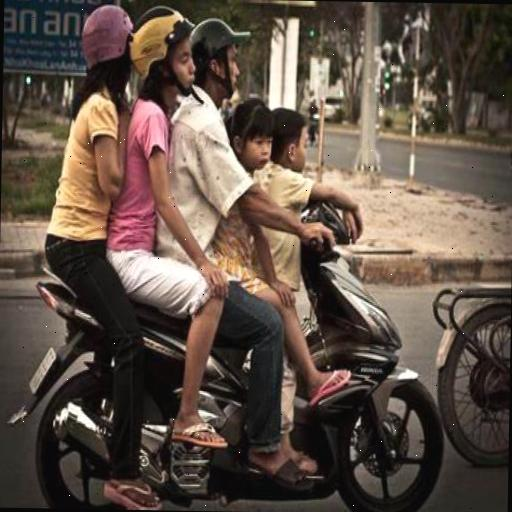helmet: (174, 17, 257, 126)
triple riding: (26, 6, 454, 512)
